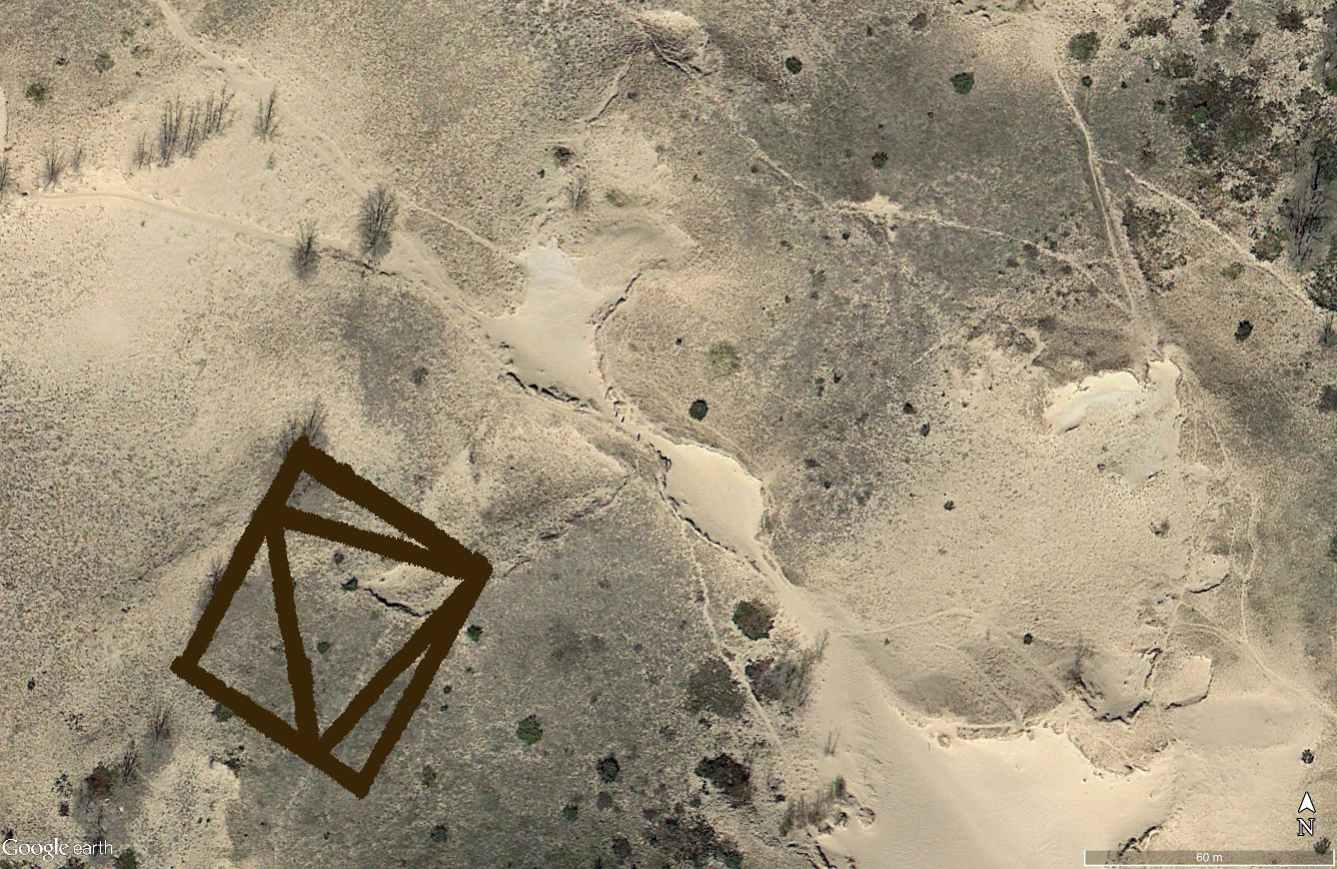marker: (165, 432, 504, 814)
